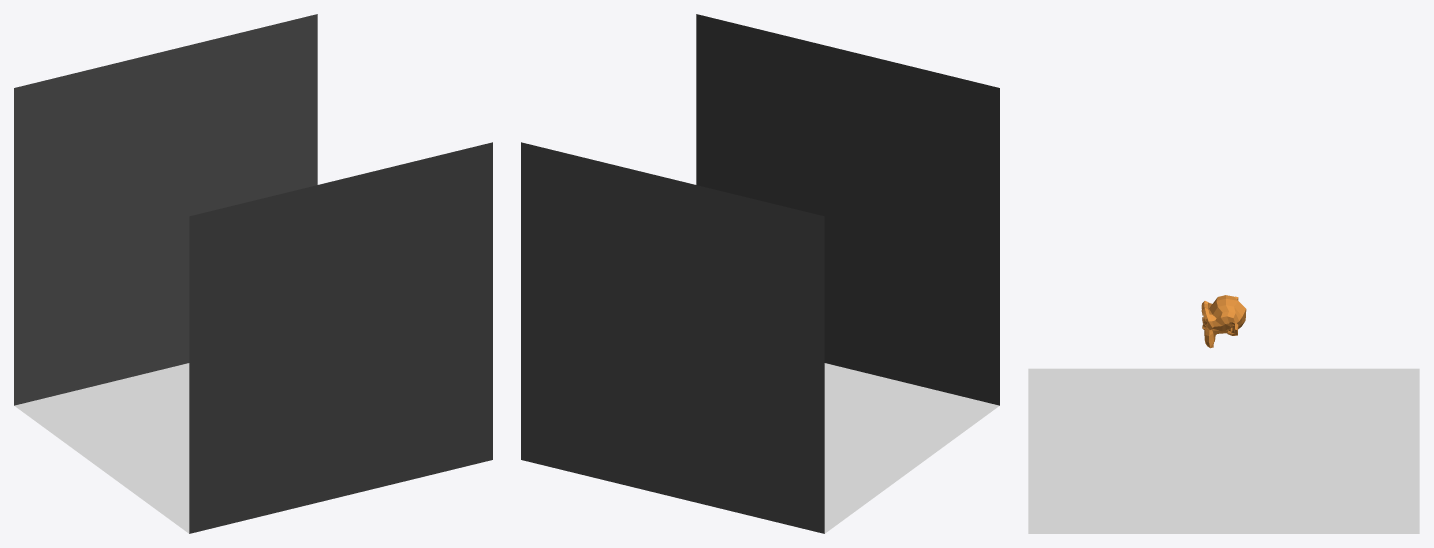
The model's file is two_mirrors.fbx.
3 renders of one model, left to right at view 1: azimuth 30°, elevation 25°; view 2: azimuth 150°, elevation 25°; view 3: azimuth 270°, elevation 25°, orthographic. The views are drawn at different scales.
Visible parts, largest first — view 1: Plane.002, Plane.001, Plane; view 2: Plane.001, Plane.002, Plane; view 3: Plane, Suzanne.
Boxes of the visible parts, box(x1,y1,x2,y2) form: Plane.002: box(189, 142, 492, 533); Plane.001: box(14, 14, 317, 405); Plane: box(14, 363, 189, 533); Plane.001: box(521, 142, 824, 533); Plane.002: box(696, 14, 999, 405); Plane: box(824, 363, 999, 533); Plane: box(1028, 368, 1419, 533); Suzanne: box(1201, 295, 1246, 348).
Bounding box in the file's own units: 20 × 20 × 20.
